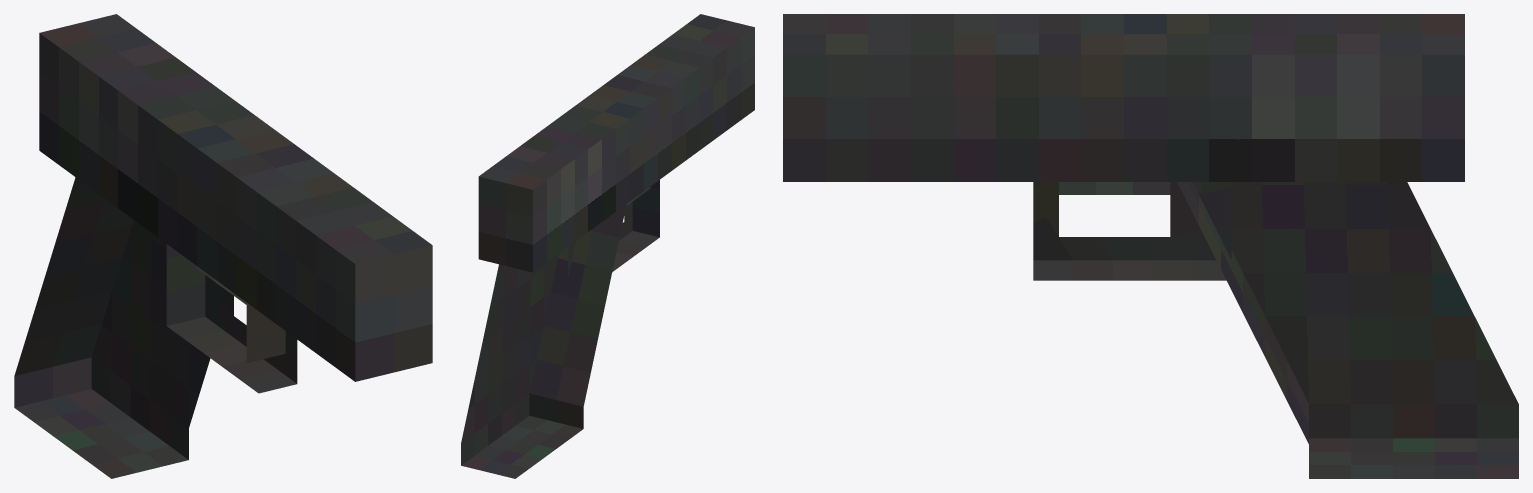
The model's file is Glocko.fbx.
3 renders of one model, left to right at view 1: azimuth 30°, elevation 25°; view 2: azimuth 150°, elevation 25°; view 3: azimuth 270°, elevation 25°, orthographic. The views are drawn at different scales.
Visible parts, largest first — view 1: Glocko; view 2: Glocko; view 3: Glocko.
Part boxes in pixels (left/top/right/bottom): Glocko: left=14, top=14, right=432, bottom=478; Glocko: left=461, top=14, right=754, bottom=478; Glocko: left=783, top=14, right=1518, bottom=478.
Size of the model in its own units: 0.0524 by 0.2545 by 0.4.
